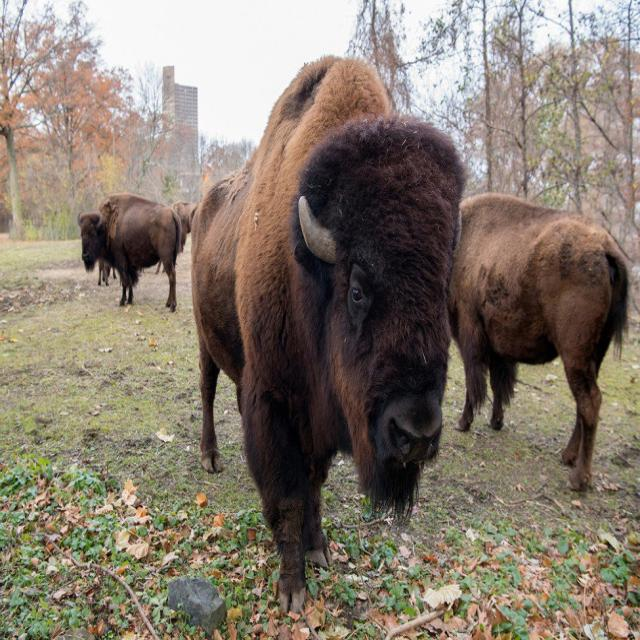Bison: (168, 22, 470, 604), (442, 178, 634, 500), (68, 170, 188, 313)
